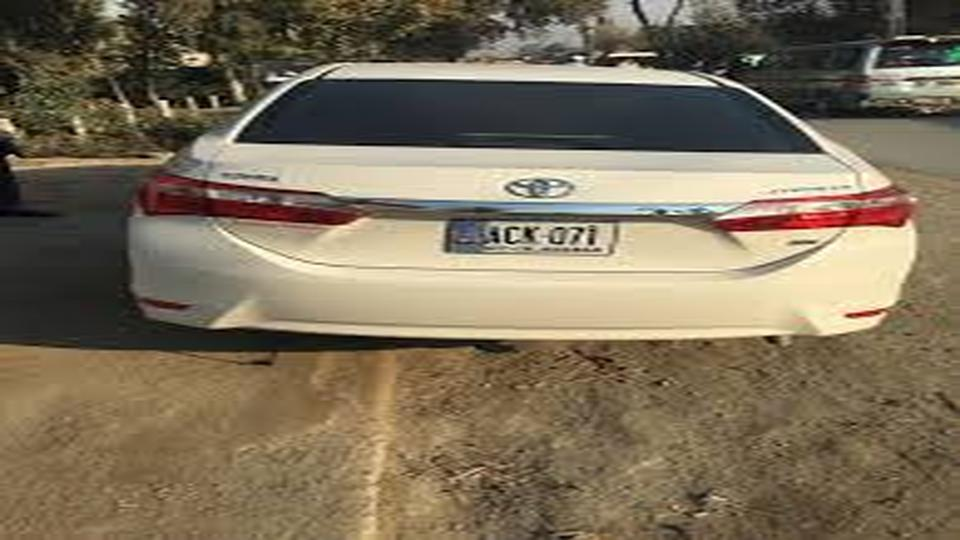NumberPlate: (444, 218, 625, 262)
